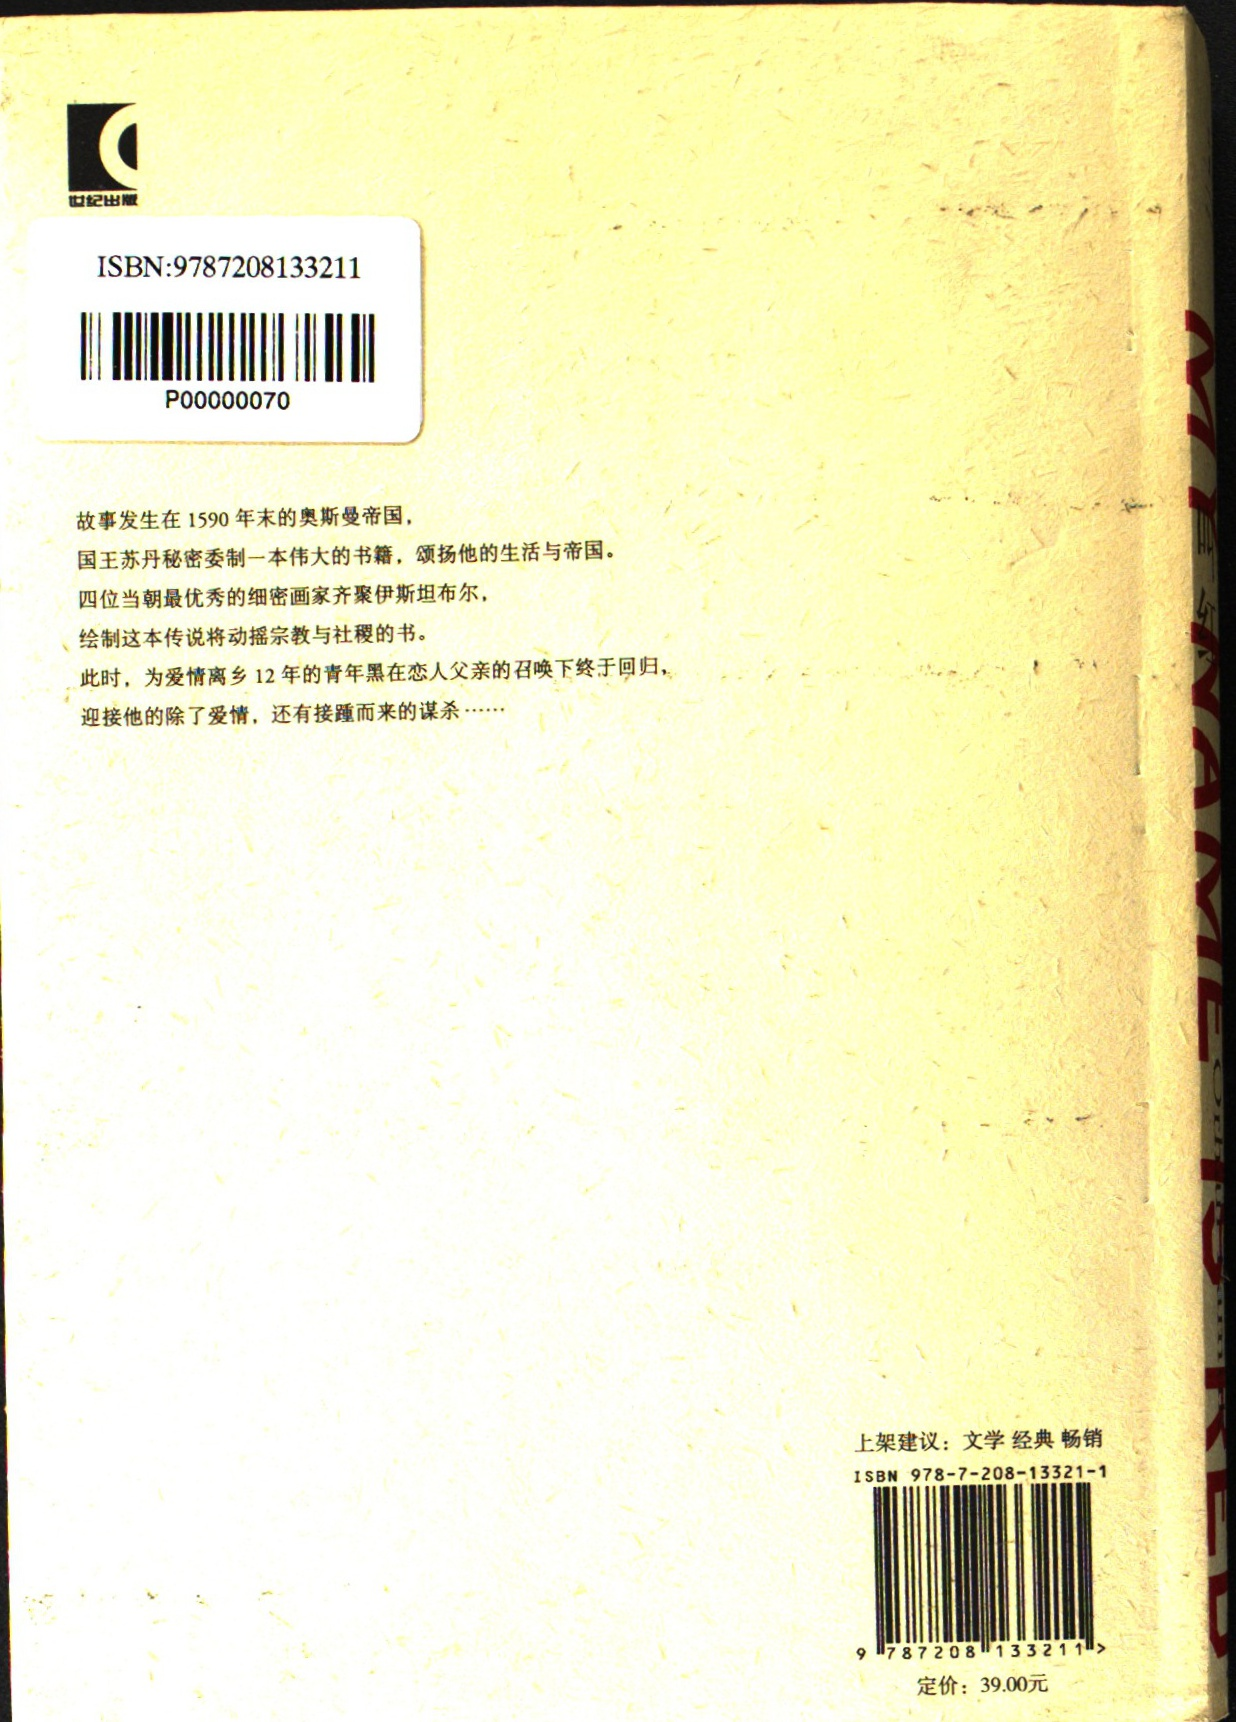barcode: (813, 1440, 1142, 1698), (58, 223, 416, 437)
